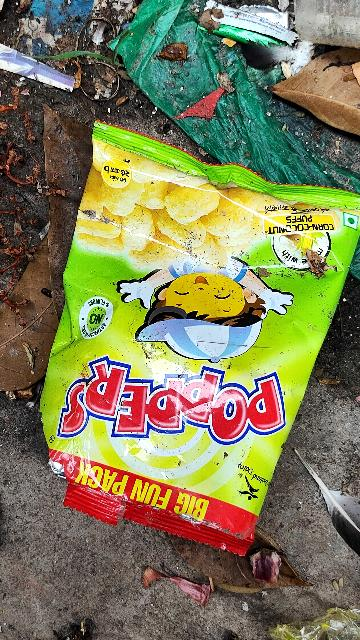packet: (17, 128, 360, 550)
